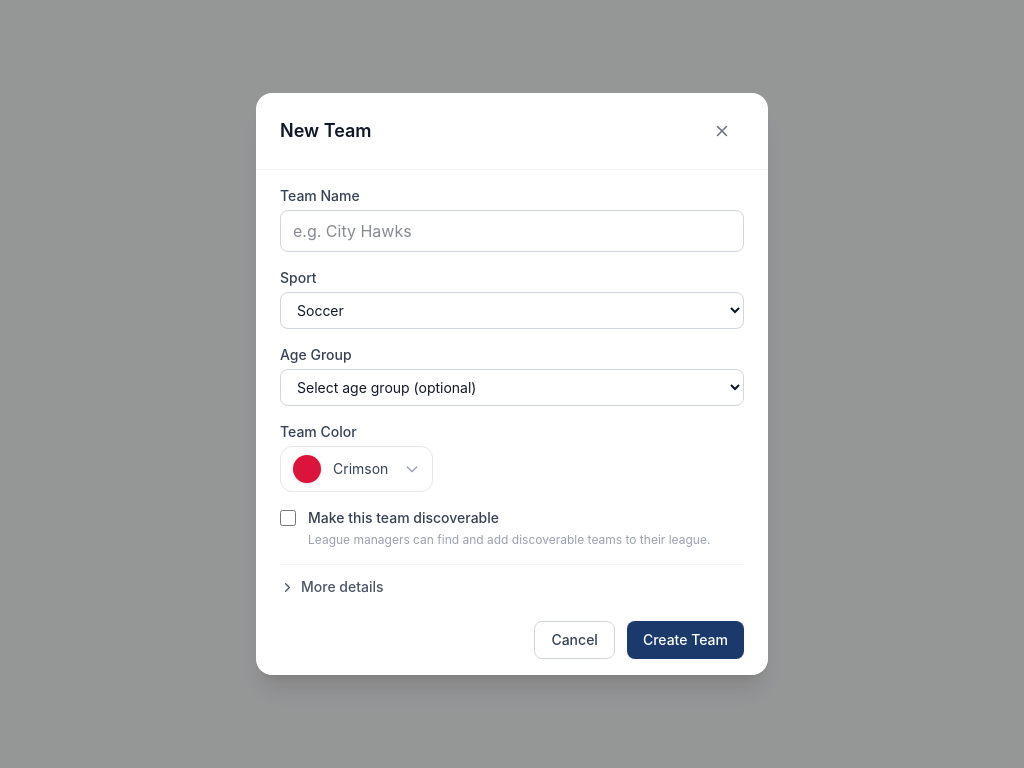
Test: TeamForm — advanced section toggle interaction › collapses the section again when "More details" is clicked a second time
Click the button "More details" at (332, 587), box 280,577 -> 384,597
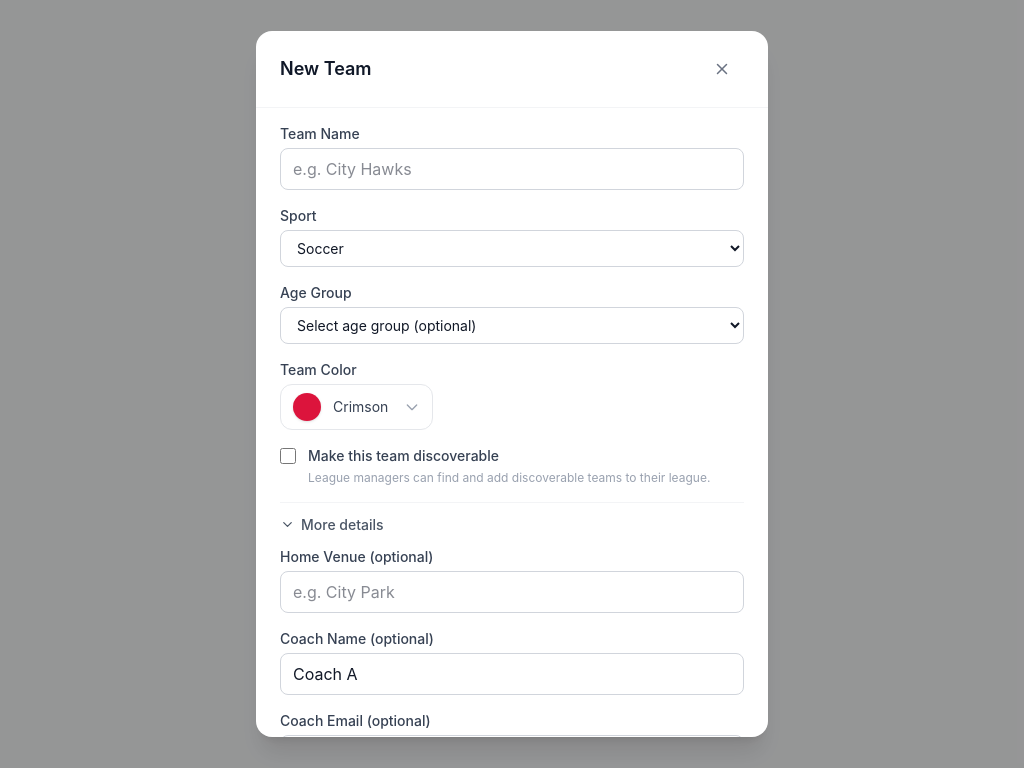
Click the button "More details" at (332, 525), box 280,515 -> 384,535
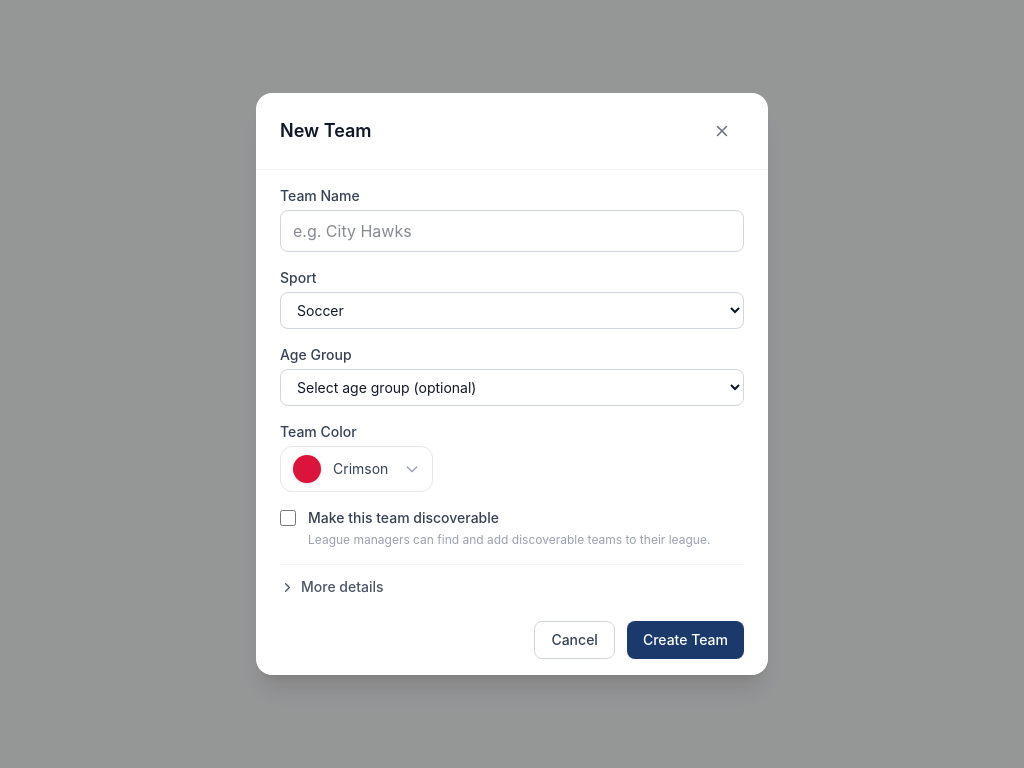
Result: the label "Coach Name" is gone
